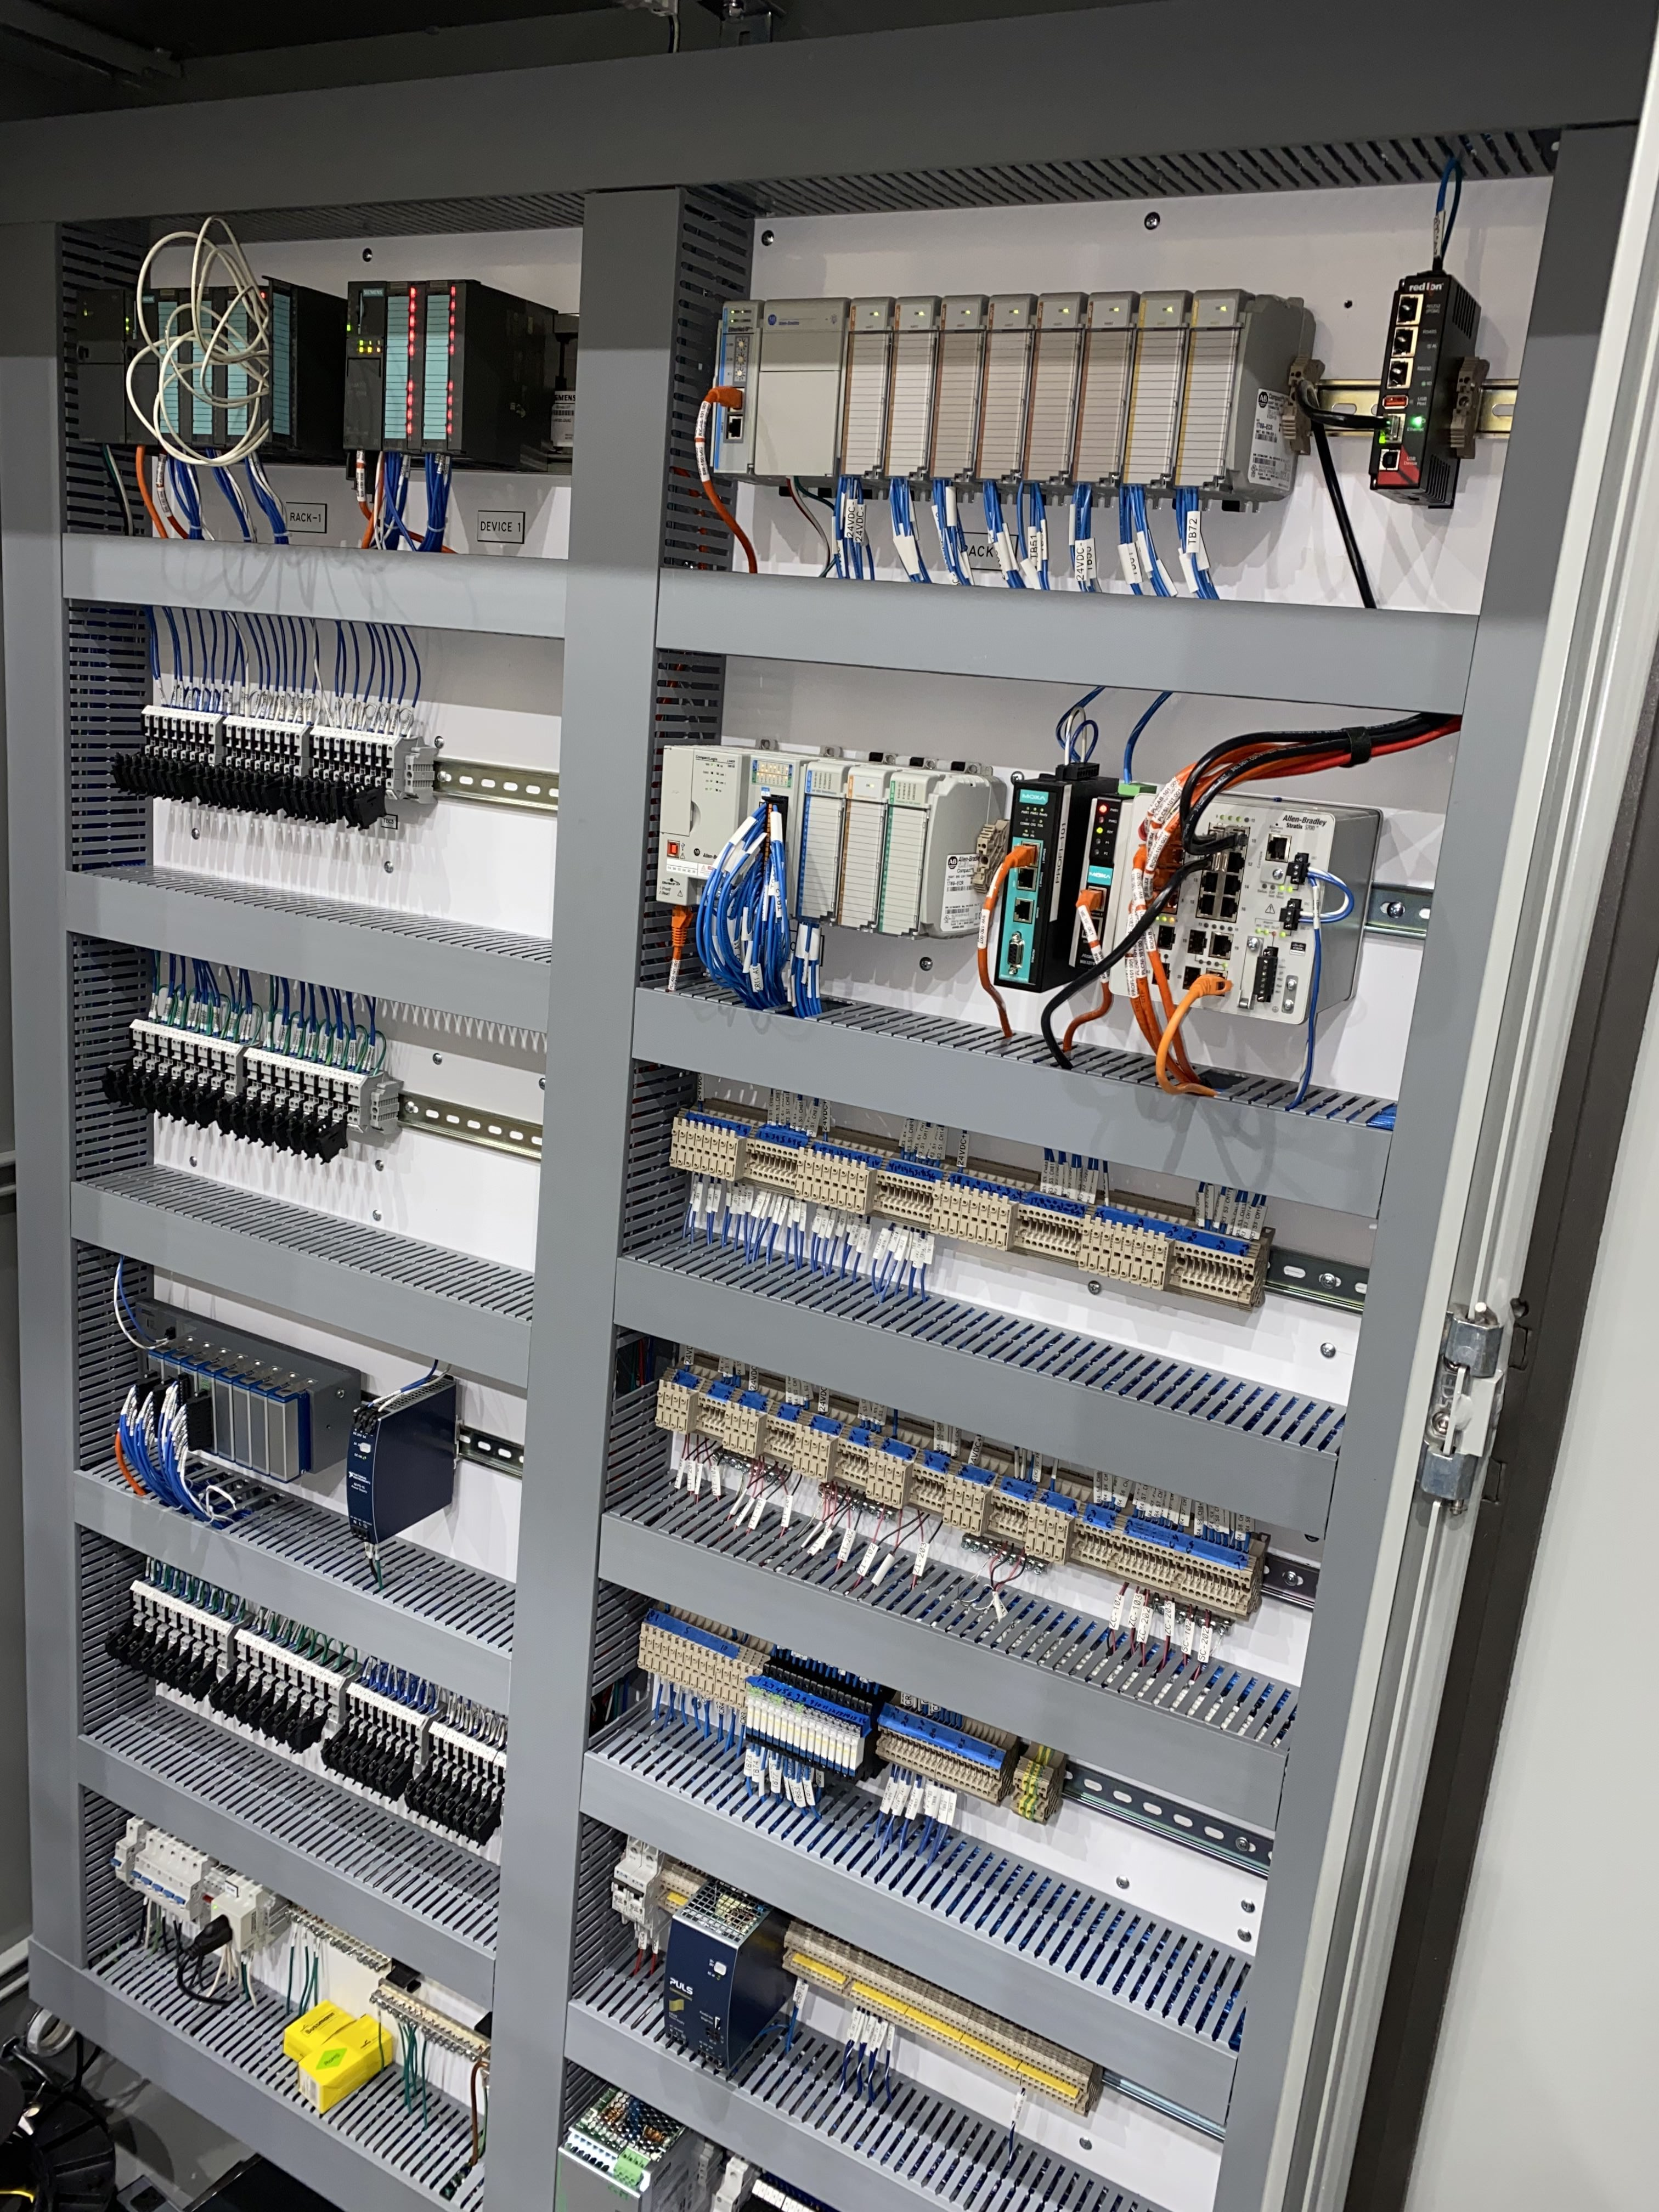AllenBradley: (650, 740, 748, 921)
Siemens: (120, 286, 166, 449)
